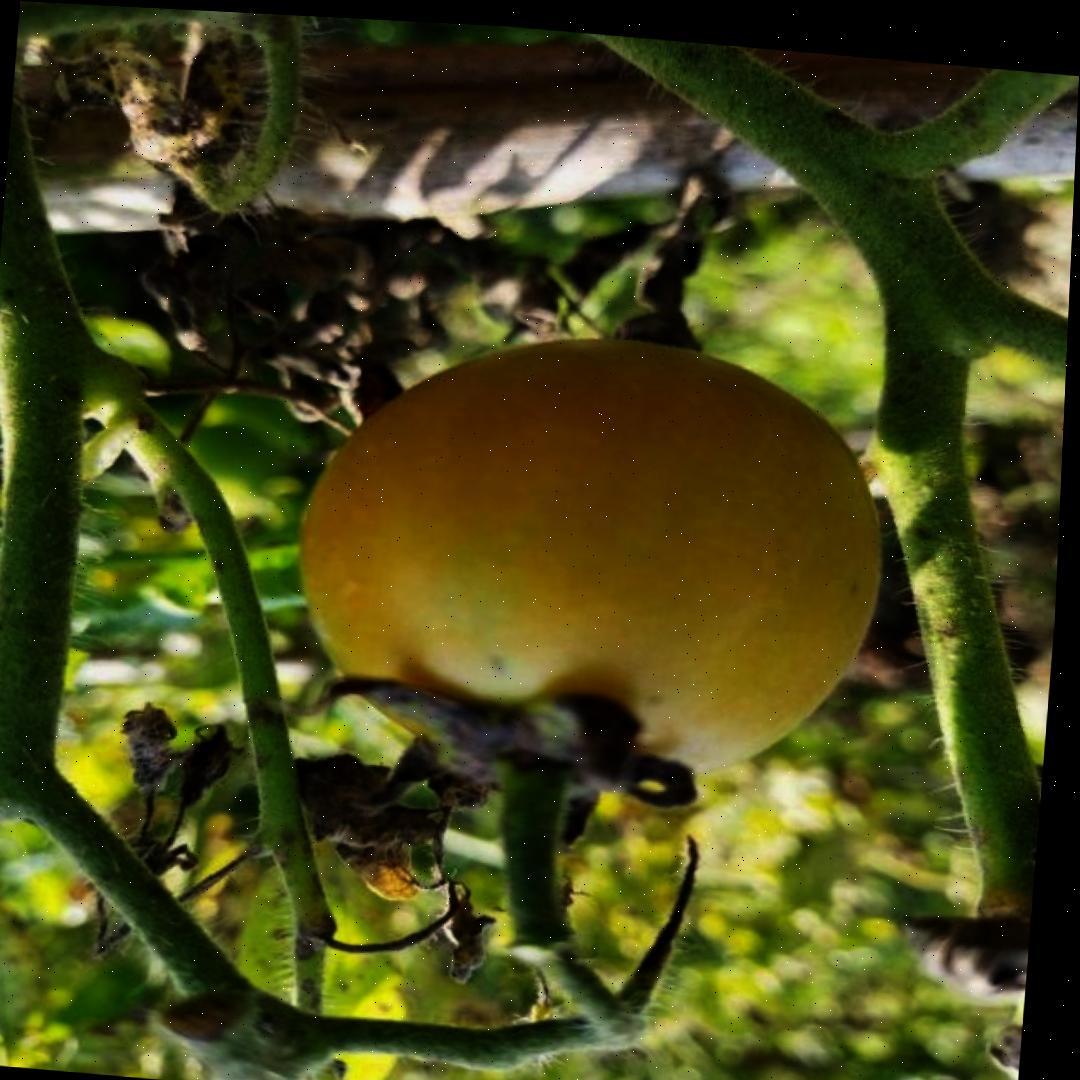setengah_matang: (275, 307, 907, 816)
